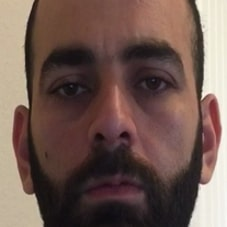awake: (37, 32, 194, 227)
